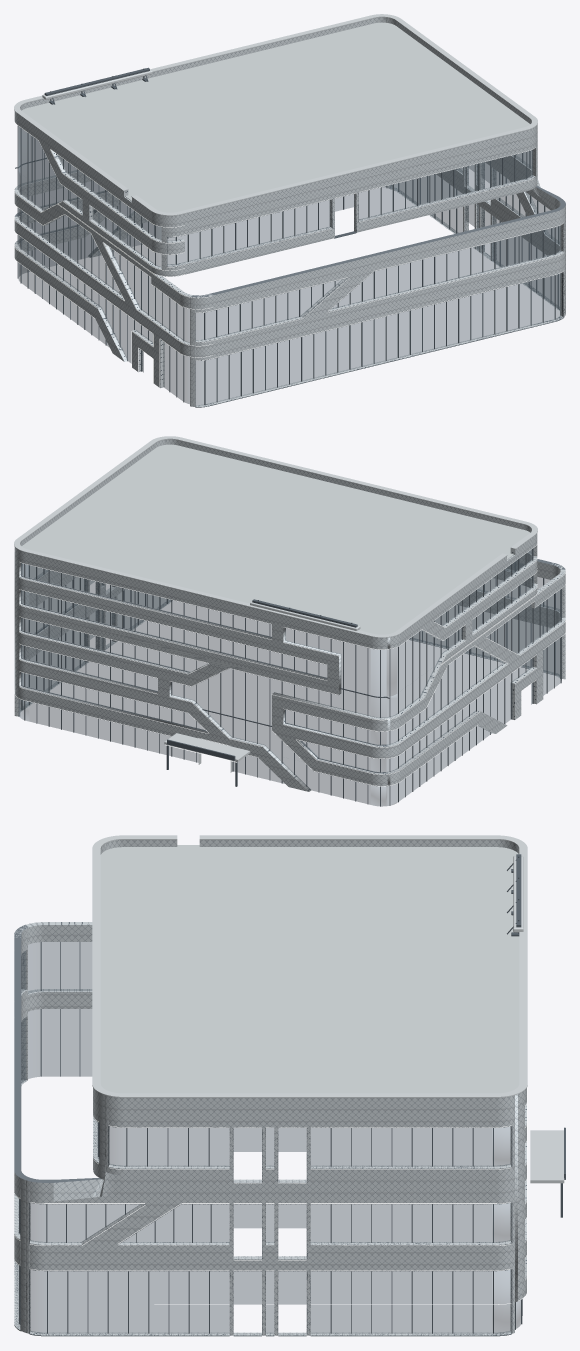
Rendered from extalia-shell.glb.
The picture shows the model from 3 angles, top to bottom: view 1: azimuth 30°, elevation 25°; view 2: azimuth 150°, elevation 25°; view 3: azimuth 270°, elevation 25°; orthographic projection. The views are drawn at different scales.
Parts seen in each view (by area): view 1: ShellRoof, ShellGlass, ShellWall_Rear, ShellWall_F3Rear, West - lower recessed glazing, West - unified lower ribbons, ShellFrames, ShellWall_East, West - unified upper ribbons, Front - continuous mitred ribbons, Front - recessed curtain, West - upper recessed glazing (+6 smaller); view 2: ShellRoof, Front - continuous mitred ribbons, Front - recessed curtain, West - lower recessed glazing, West - unified lower ribbons, Front - slim mullions, ShellGlass, West - unified upper ribbons, West - upper recessed glazing, ShellWall_East, Front - warm ribbon accents, West - lower mullions (+7 smaller); view 3: ShellRoof, ShellGlass, ShellWall_East, ShellFrames, West - lower recessed glazing, ShellWall_Rear, West - unified lower ribbons, West - unified upper ribbons, ShellAccents, Front - continuous mitred ribbons, ShellCanopy, ShellWall_F3Rear.
Part boxes in pixels (x1=…): ShellRoof: x1=14, y1=14, x2=537, y2=215; ShellGlass: x1=167, y1=150, x2=560, y2=404; ShellWall_Rear: x1=190, y1=205, x2=565, y2=406; ShellWall_F3Rear: x1=161, y1=125, x2=537, y2=276; West - lower recessed glazing: x1=18, y1=170, x2=189, y2=403; West - unified lower ribbons: x1=14, y1=182, x2=212, y2=387; ShellFrames: x1=167, y1=150, x2=564, y2=407; ShellWall_East: x1=386, y1=17, x2=565, y2=313; West - unified upper ribbons: x1=14, y1=102, x2=184, y2=275; Front - continuous mitred ribbons: x1=14, y1=17, x2=386, y2=257; Front - recessed curtain: x1=19, y1=127, x2=385, y2=275; West - upper recessed glazing: x1=18, y1=126, x2=161, y2=267; ShellRoof: x1=14, y1=436, x2=537, y2=637; Front - continuous mitred ribbons: x1=14, y1=547, x2=390, y2=791; Front - recessed curtain: x1=19, y1=563, x2=386, y2=806; West - lower recessed glazing: x1=387, y1=589, x2=561, y2=805; West - unified lower ribbons: x1=367, y1=562, x2=565, y2=785; Front - slim mullions: x1=18, y1=563, x2=389, y2=806; ShellGlass: x1=20, y1=550, x2=559, y2=710; West - unified upper ribbons: x1=390, y1=525, x2=537, y2=664; West - upper recessed glazing: x1=387, y1=548, x2=533, y2=696; ShellWall_East: x1=14, y1=439, x2=172, y2=716; Front - warm ribbon accents: x1=15, y1=562, x2=387, y2=786; West - lower mullions: x1=389, y1=579, x2=561, y2=805; ShellRoof: x1=92, y1=835, x2=527, y2=1097; ShellGlass: x1=21, y1=951, x2=510, y2=1332; ShellWall_East: x1=26, y1=1095, x2=514, y2=1335; ShellFrames: x1=14, y1=953, x2=512, y2=1336; West - lower recessed glazing: x1=28, y1=942, x2=91, y2=1078; ShellWall_Rear: x1=14, y1=924, x2=27, y2=1332; West - unified lower ribbons: x1=15, y1=922, x2=92, y2=1012; West - unified upper ribbons: x1=103, y1=840, x2=518, y2=853; ShellAccents: x1=14, y1=1118, x2=511, y2=1336; Front - continuous mitred ribbons: x1=513, y1=843, x2=526, y2=1302; ShellCanopy: x1=530, y1=1130, x2=564, y2=1217; ShellWall_F3Rear: x1=93, y1=843, x2=106, y2=1179.
Size of the model in its own units: 47.02 by 20.73 by 41.93.
Materials: 11 (2 with a texture image).
